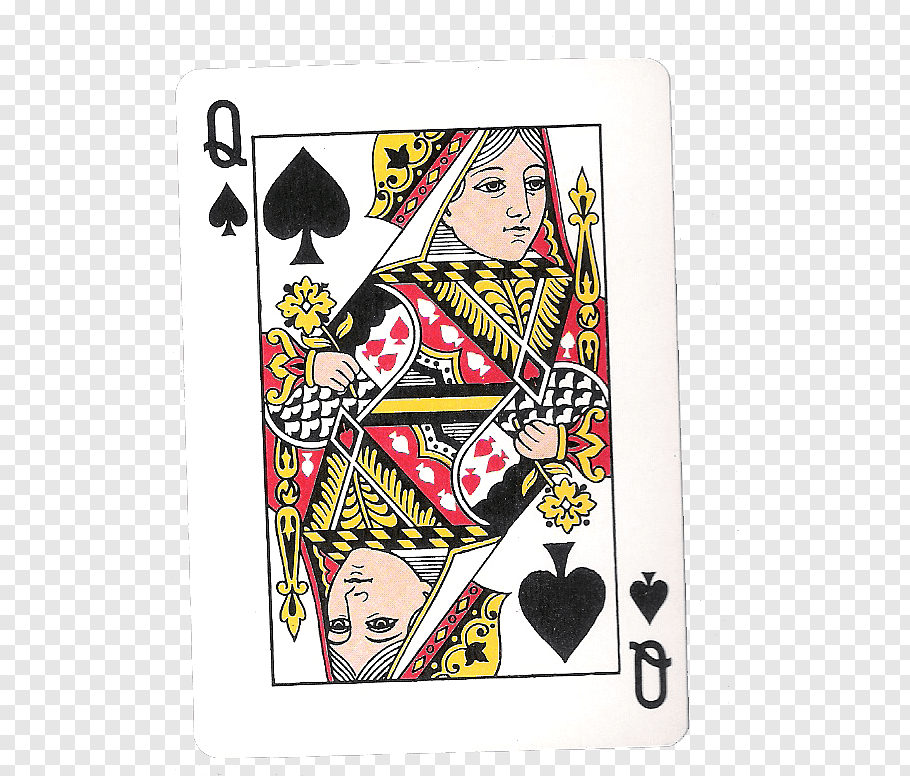queen of spades: (174, 55, 687, 754)
